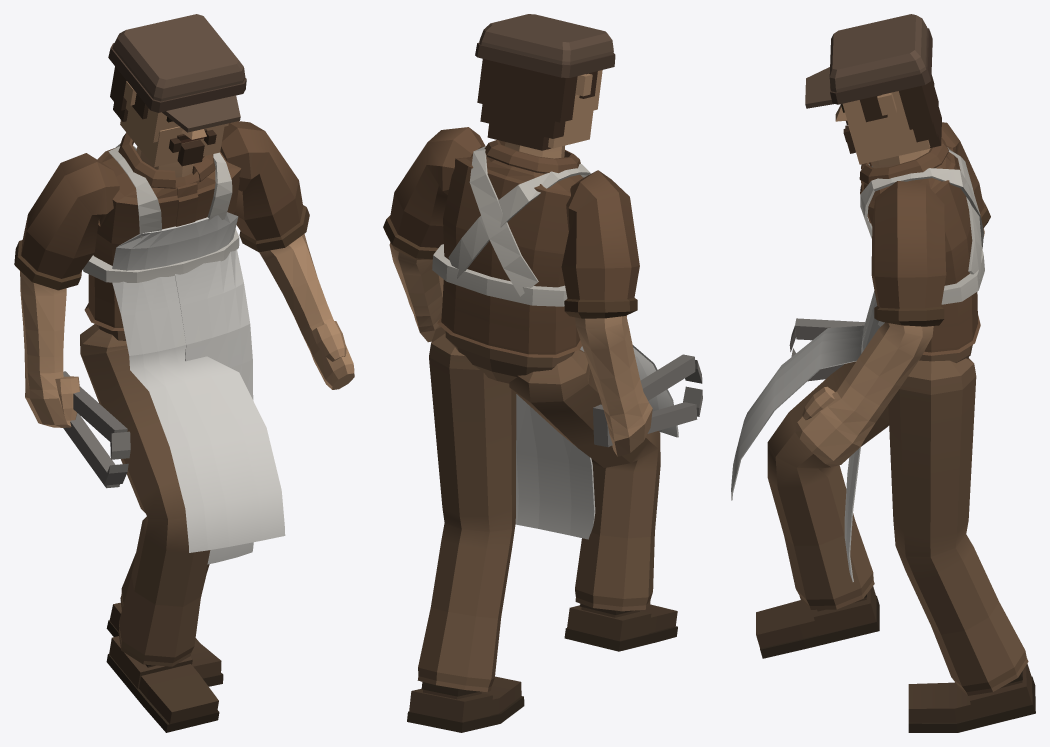
The model's file is street-vendor-139de3__walk3.glb.
The picture shows the model from 3 angles, left to right: view 1: azimuth 30°, elevation 25°; view 2: azimuth 150°, elevation 25°; view 3: azimuth 270°, elevation 25°; orthographic projection.
Visible parts, largest first — view 1: street-vendor-139de3__walk3; view 2: street-vendor-139de3__walk3; view 3: street-vendor-139de3__walk3.
Part boxes in pixels (bbox=[...]): street-vendor-139de3__walk3: bbox=[14, 14, 354, 732]; street-vendor-139de3__walk3: bbox=[383, 14, 702, 732]; street-vendor-139de3__walk3: bbox=[731, 14, 1035, 732].
Size of the model in its own units: 0.7172 by 1.72 by 0.7073.
